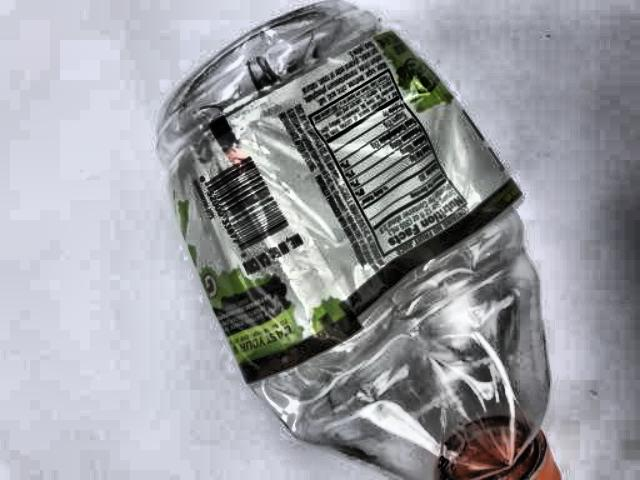Bottles: (142, 0, 580, 480)
